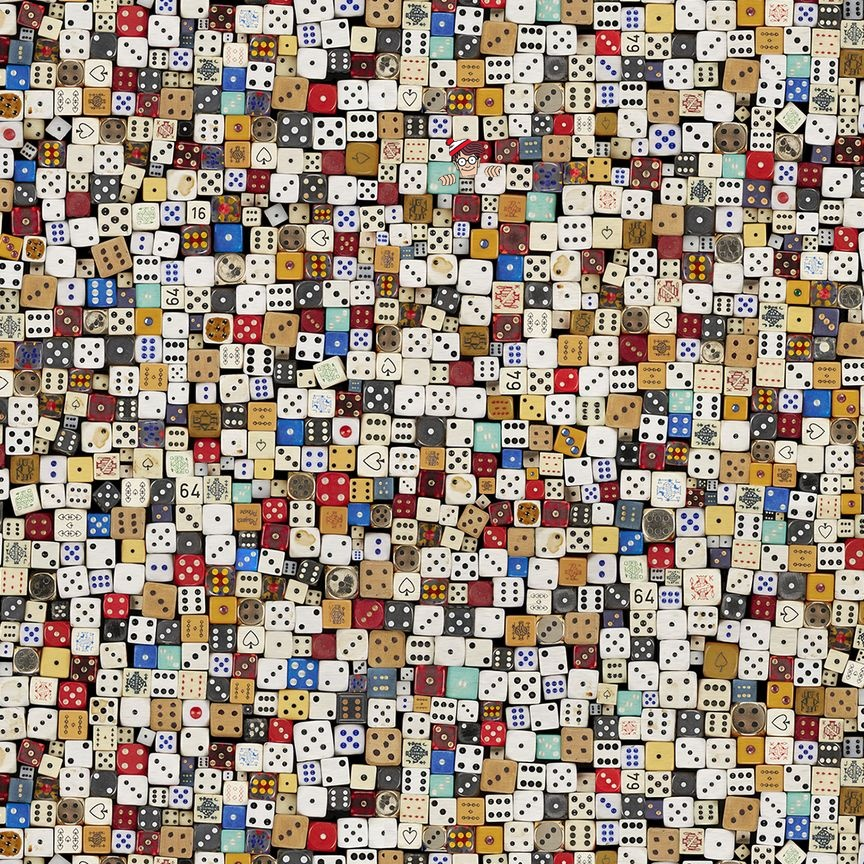waldo: (438, 138, 502, 186)
